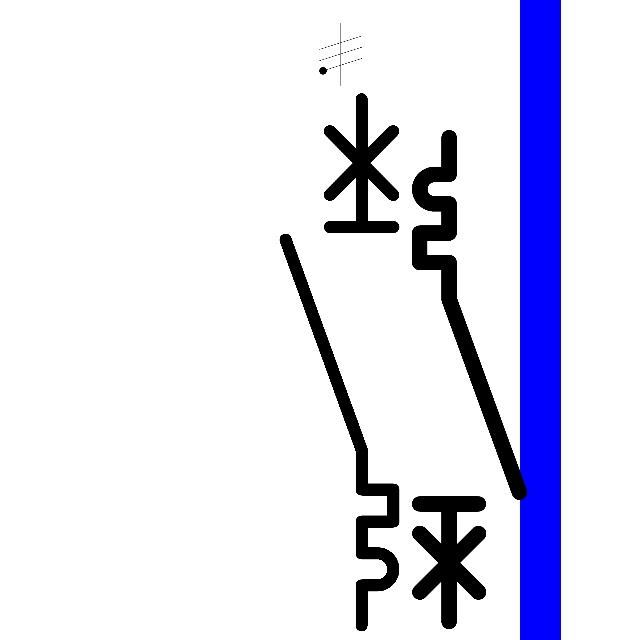interruptor_termomagnetico: (272, 85, 407, 639), (407, 125, 531, 634)
